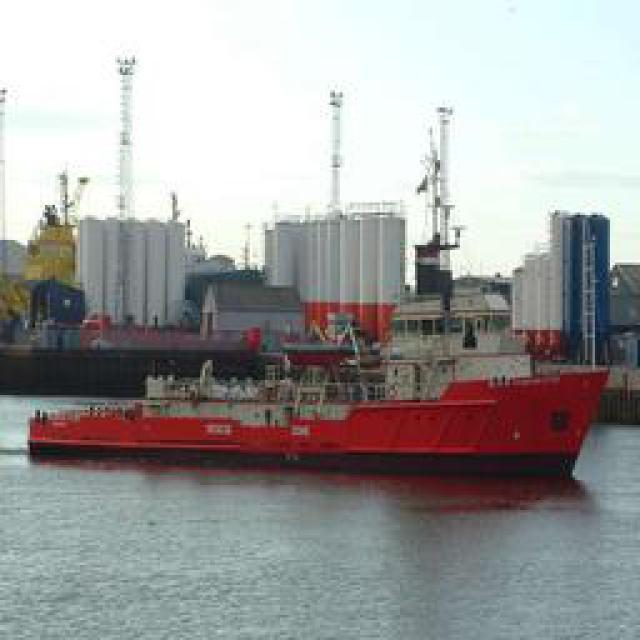Ship: (27, 380, 617, 465)
